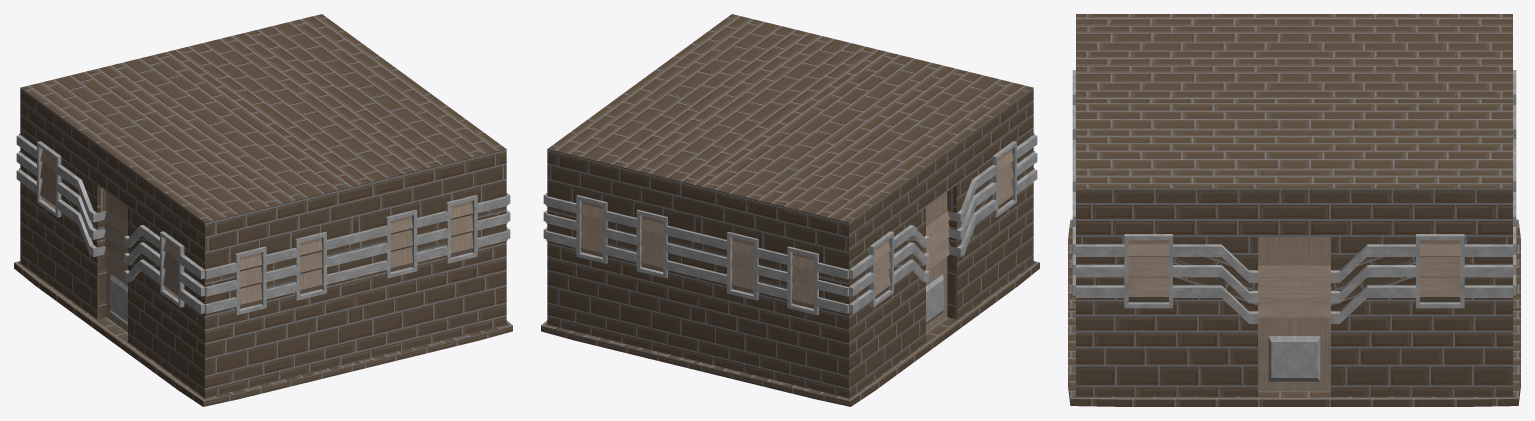
3 renders of one model, left to right at view 1: azimuth 30°, elevation 25°; view 2: azimuth 150°, elevation 25°; view 3: azimuth 270°, elevation 25°, orthographic. The views are drawn at different scales.
Visible parts, largest first — view 1: base2; view 2: base2; view 3: base2.
Part boxes in pixels (left/top/right/bottom): base2: left=14, top=14, right=512, bottom=406; base2: left=541, top=14, right=1039, bottom=406; base2: left=1068, top=14, right=1520, bottom=406.
Bounding box in the file's own units: 541 × 300 × 572.
